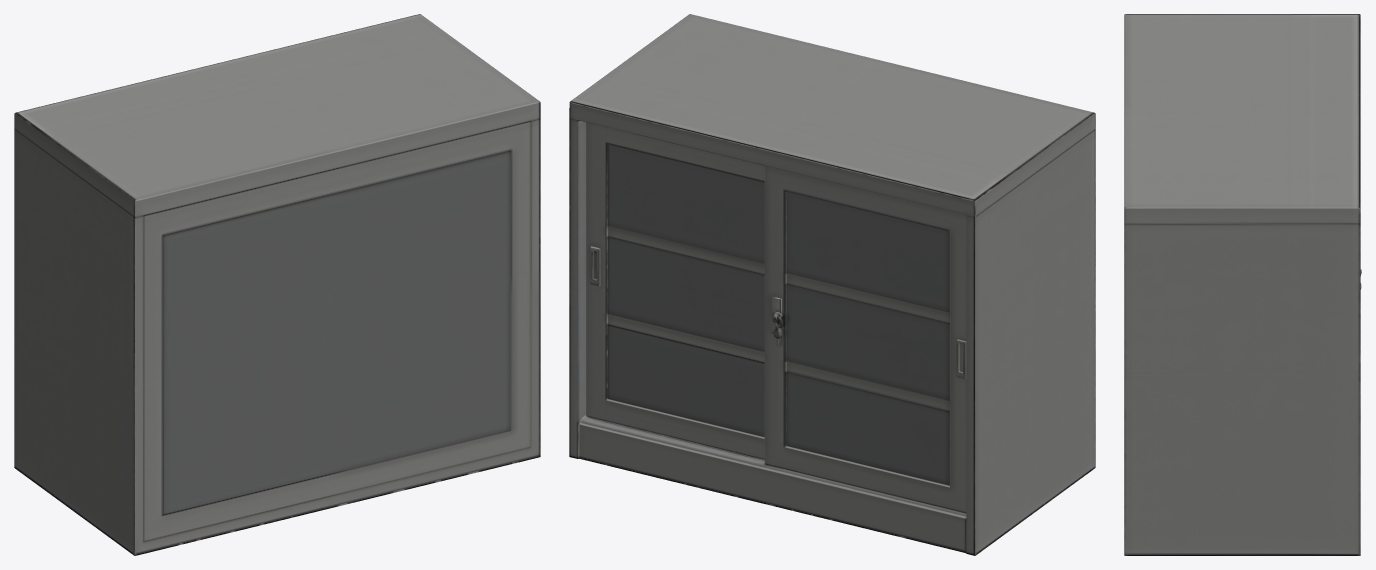
The model's file is OparetionRoom_AI_Prop.002.fbx.
The picture shows the model from 3 angles, left to right: view 1: azimuth 30°, elevation 25°; view 2: azimuth 150°, elevation 25°; view 3: azimuth 270°, elevation 25°; orthographic projection. The views are drawn at different scales.
Parts seen in each view (by area): view 1: OparetionRoom_AI_Prop.002; view 2: OparetionRoom_AI_Prop.002; view 3: OparetionRoom_AI_Prop.002.
Boxes of the visible parts, x1,y1,x2,y2 form: OparetionRoom_AI_Prop.002: (14,14,540,555); OparetionRoom_AI_Prop.002: (569,14,1095,555); OparetionRoom_AI_Prop.002: (1124,14,1361,555).
Size of the model in its own units: 135 by 113 by 69.83.
